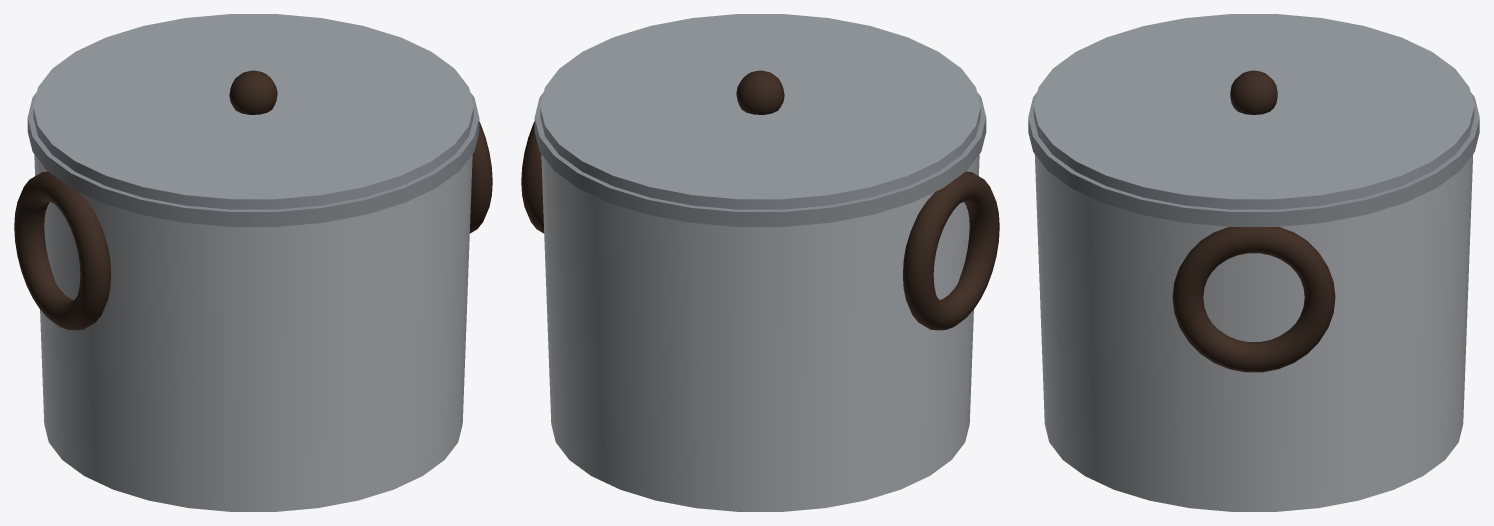
File: wok_prop_stock_pot.glb
3 views of the same model, side by side, from view 1: azimuth 30°, elevation 25°; view 2: azimuth 150°, elevation 25°; view 3: azimuth 270°, elevation 25° (orthographic).
Bounding box in the file's own units: 0.428 × 0.352 × 0.41.
